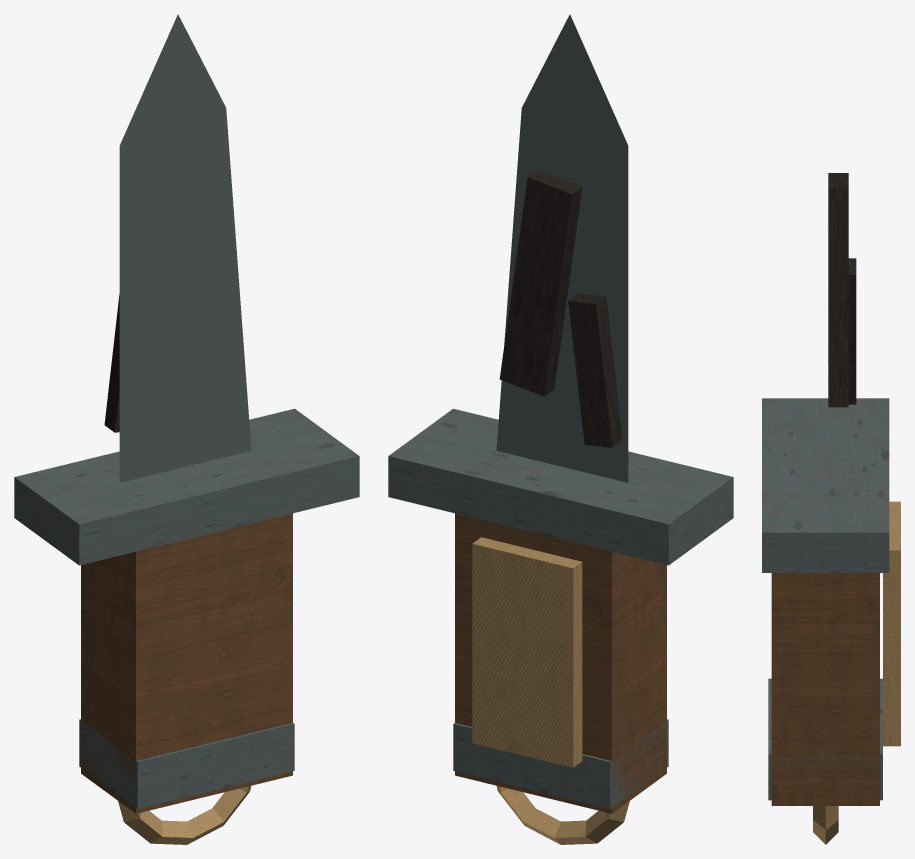
Rendered from pr-018_knife_cutting_tool__worn.obj.
3 renders of one model, left to right at view 1: azimuth 30°, elevation 25°; view 2: azimuth 150°, elevation 25°; view 3: azimuth 270°, elevation 25°, orthographic.
Visible parts, largest first — view 1: pr-018_knife_cutting_tool__worn; view 2: pr-018_knife_cutting_tool__worn; view 3: pr-018_knife_cutting_tool__worn.
Boxes of the visible parts, left/top/right/bottom form: pr-018_knife_cutting_tool__worn: left=14, top=14, right=359, bottom=844; pr-018_knife_cutting_tool__worn: left=388, top=14, right=733, bottom=844; pr-018_knife_cutting_tool__worn: left=762, top=173, right=900, bottom=844.
Size of the model in its own units: 0.1197 by 0.34 by 0.0522.
4 materials, 4 textured.
